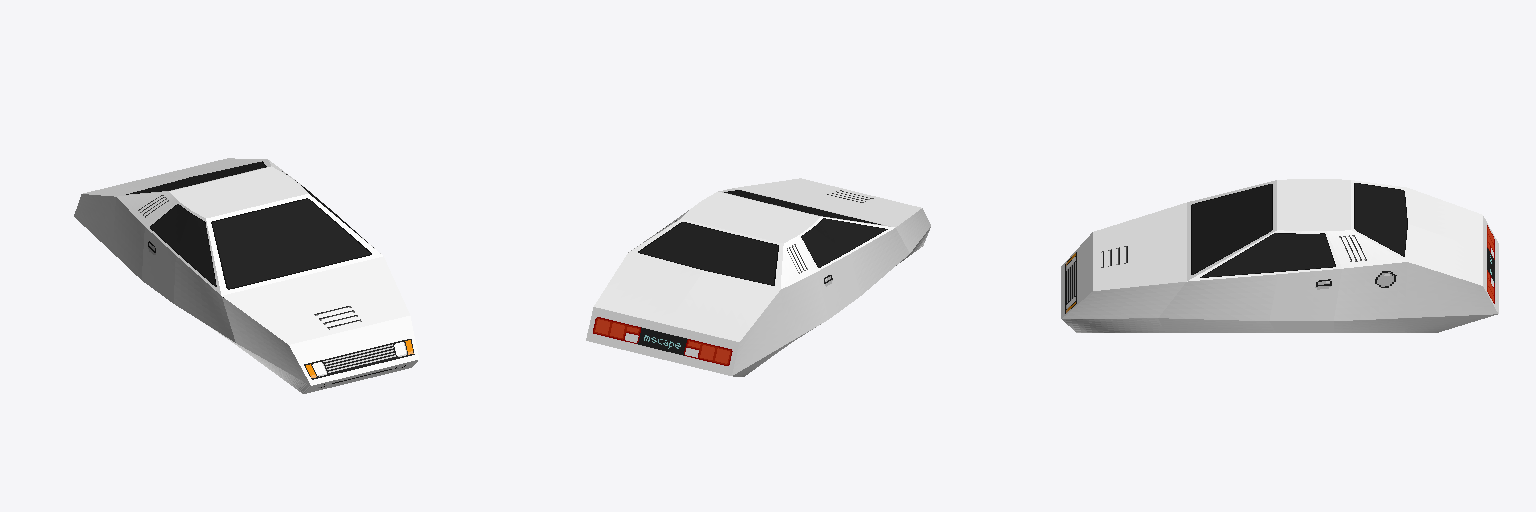
3 renders of one model, left to right at view 1: azimuth 30°, elevation 25°; view 2: azimuth 150°, elevation 25°; view 3: azimuth 270°, elevation 25°, orthographic.
Visible parts, largest first — view 1: Plane; view 2: Plane; view 3: Plane.
Part boxes in pixels (x1,y1,x2,y2): Plane: (74,158,418,393); Plane: (586,178,930,376); Plane: (1061,179,1498,332).
Bounding box in the file's own units: 6.48 × 3.6 × 14.
1 materials, 1 textured.